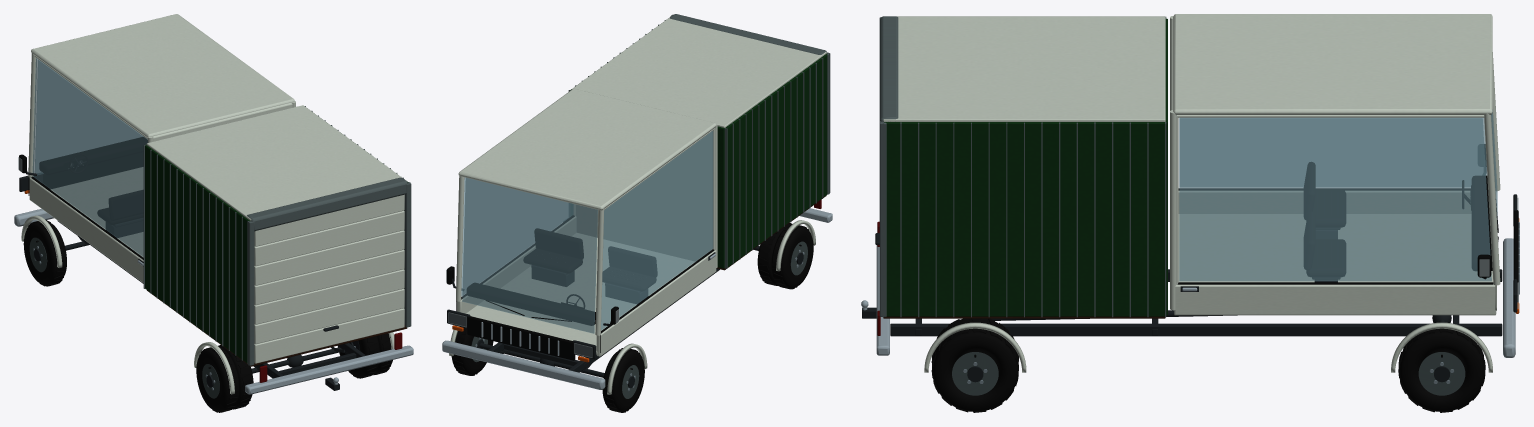
File: LandscapingTruck.fbx
The picture shows the model from 3 angles, left to right: view 1: azimuth 30°, elevation 25°; view 2: azimuth 150°, elevation 25°; view 3: azimuth 270°, elevation 25°; orthographic projection. The views are drawn at different scales.
Visible parts, largest first — view 1: LandscapingTruck__Body, LandscapingTruck__RearDoor, LandscapingTruck__DriverDoorGlass, LandscapingTruck__Glass_Windshield, LandscapingTruck__DriverDoor, LandscapingTruck__Wheel_RL, LandscapingTruck__Wheel_FL, LandscapingTruck__Wheel_RR; view 2: LandscapingTruck__Body, LandscapingTruck__Glass_Windshield, LandscapingTruck__DriverDoorGlass, LandscapingTruck, LandscapingTruck__DriverDoor, LandscapingTruck__Wheel_RL, LandscapingTruck__Wheel_FL, LandscapingTruck__Wheel_FR; view 3: LandscapingTruck__Body, LandscapingTruck, LandscapingTruck__DriverDoorGlass, LandscapingTruck__DriverDoor, LandscapingTruck__Wheel_RR, LandscapingTruck__Wheel_FR.
Boxes of the visible parts, bbox=[...] form: LandscapingTruck__Body: bbox=[14, 14, 413, 394]; LandscapingTruck__RearDoor: bbox=[254, 194, 404, 363]; LandscapingTruck__DriverDoorGlass: bbox=[32, 58, 147, 256]; LandscapingTruck__Glass_Windshield: bbox=[35, 60, 142, 174]; LandscapingTruck__DriverDoor: bbox=[19, 56, 147, 282]; LandscapingTruck__Wheel_RL: bbox=[196, 345, 253, 412]; LandscapingTruck__Wheel_FL: bbox=[23, 220, 66, 286]; LandscapingTruck__Wheel_RR: bbox=[338, 333, 392, 378]; LandscapingTruck__Body: bbox=[442, 14, 832, 394]; LandscapingTruck__Glass_Windshield: bbox=[462, 178, 597, 333]; LandscapingTruck__DriverDoorGlass: bbox=[601, 131, 713, 330]; LandscapingTruck: bbox=[461, 177, 572, 296]; LandscapingTruck__DriverDoor: bbox=[596, 128, 716, 356]; LandscapingTruck__Wheel_RL: bbox=[757, 223, 813, 289]; LandscapingTruck__Wheel_FL: bbox=[602, 348, 644, 412]; LandscapingTruck__Wheel_FR: bbox=[451, 326, 493, 375]; LandscapingTruck__Body: bbox=[861, 14, 1519, 372]; LandscapingTruck: bbox=[1179, 118, 1491, 281]; LandscapingTruck__DriverDoorGlass: bbox=[1180, 117, 1487, 186]; LandscapingTruck__DriverDoor: bbox=[1178, 144, 1495, 213]; LandscapingTruck__Wheel_RR: bbox=[931, 318, 1018, 412]; LandscapingTruck__Wheel_FR: bbox=[1398, 328, 1485, 412].
Bounding box in the file's own units: 210 × 253 × 508.
Materials: 3 (1 with a texture image).
